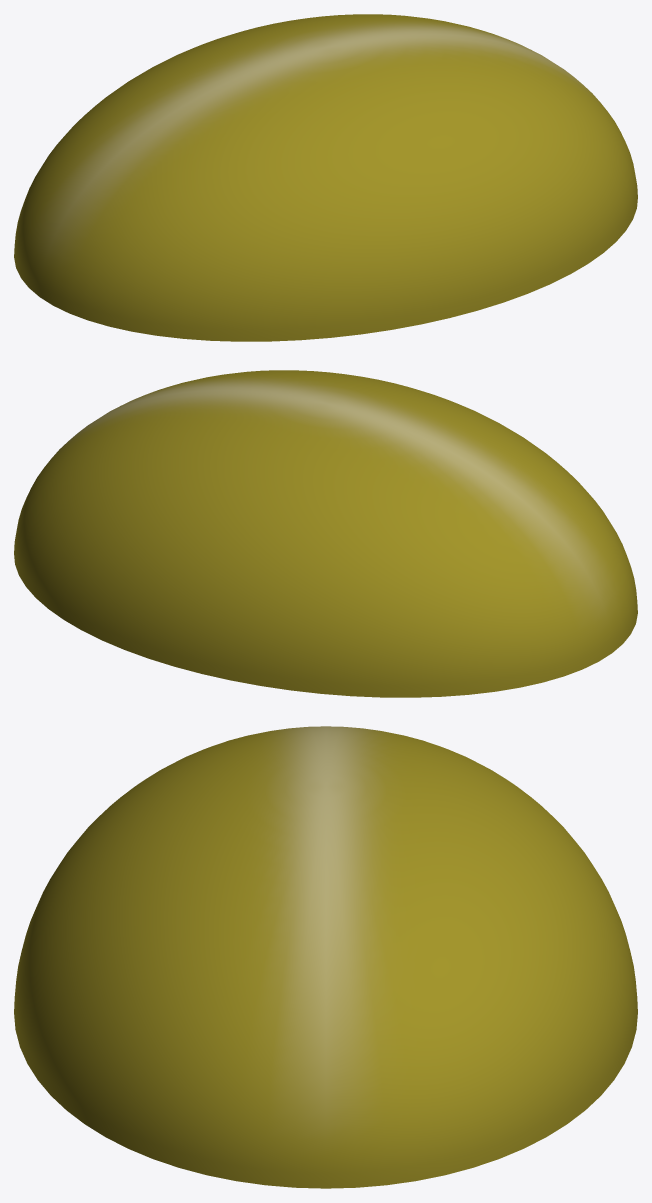
File: chrysoberyl.glb
3 views of the same model, one above another, from view 1: azimuth 30°, elevation 25°; view 2: azimuth 150°, elevation 25°; view 3: azimuth 270°, elevation 25° (orthographic). The views are drawn at different scales.
Parts seen in each view (by area): view 1: chrysoberyl; view 2: chrysoberyl; view 3: chrysoberyl.
Part boxes in pixels (x1,y1,x2,y2): chrysoberyl: (14, 14, 637, 341); chrysoberyl: (14, 370, 637, 697); chrysoberyl: (14, 726, 637, 1188).
Size of the model in its own units: 0.25 by 0.075 by 0.1875.
